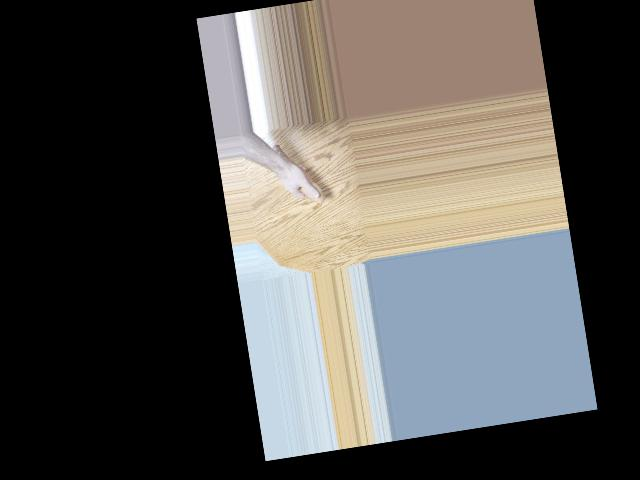sweet_potato: (270, 136, 324, 210)
